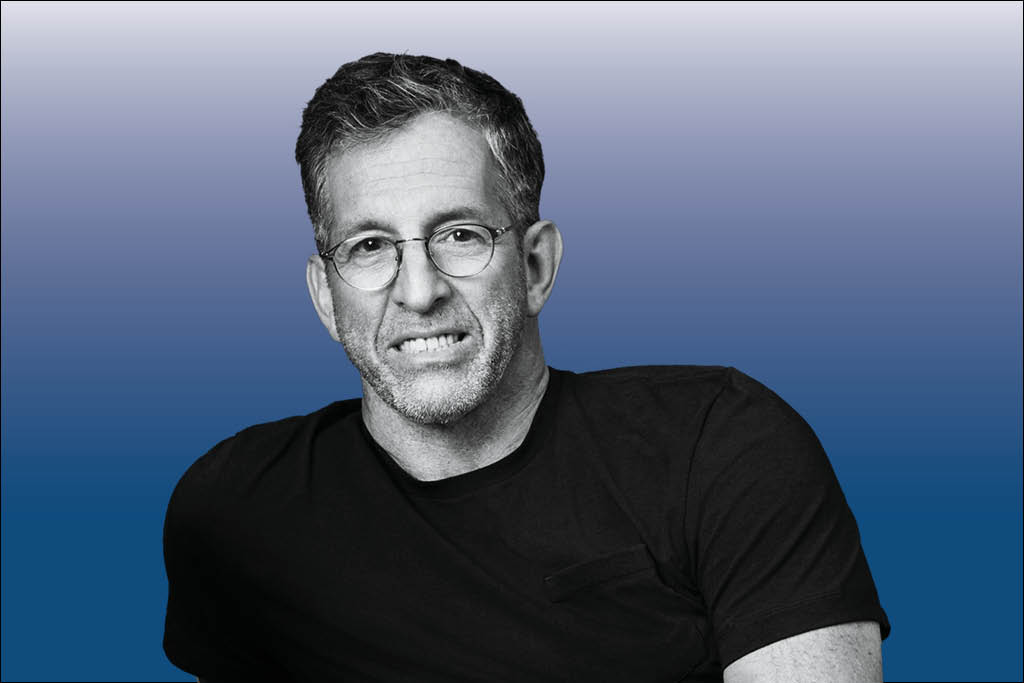human: (157, 44, 907, 683)
